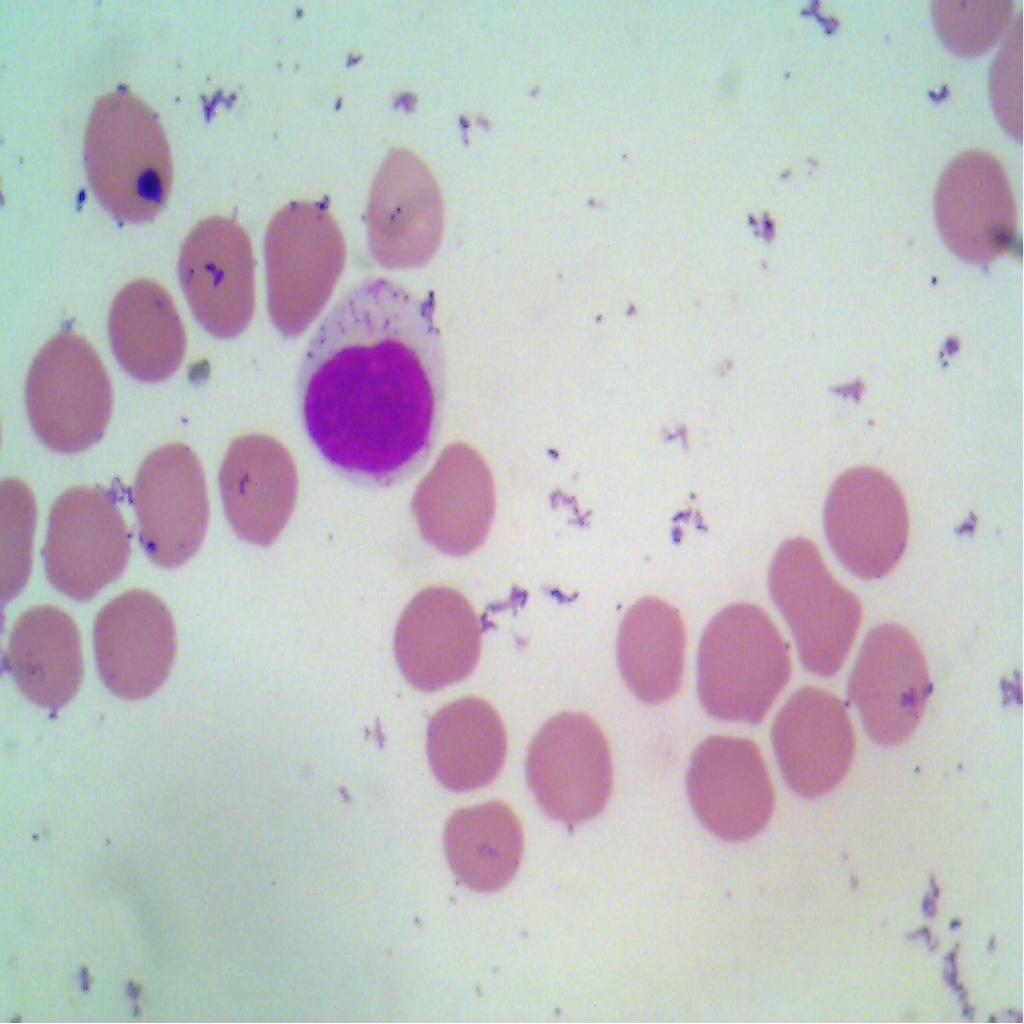Eritrosit: (70, 78, 178, 228), (510, 696, 621, 838), (762, 530, 864, 679), (688, 591, 793, 725), (678, 717, 780, 852), (404, 435, 506, 568), (929, 138, 1023, 278), (254, 195, 346, 338), (816, 465, 918, 589), (18, 334, 115, 461), (129, 438, 218, 575), (433, 787, 535, 905), (210, 422, 301, 552), (1, 592, 93, 719), (173, 207, 255, 349), (32, 485, 138, 594), (392, 577, 490, 690), (768, 681, 859, 801), (849, 621, 929, 755), (366, 138, 444, 275), (609, 586, 689, 716), (93, 586, 183, 698), (101, 281, 188, 387), (416, 696, 514, 790)
Limfosit: (299, 271, 444, 494)
